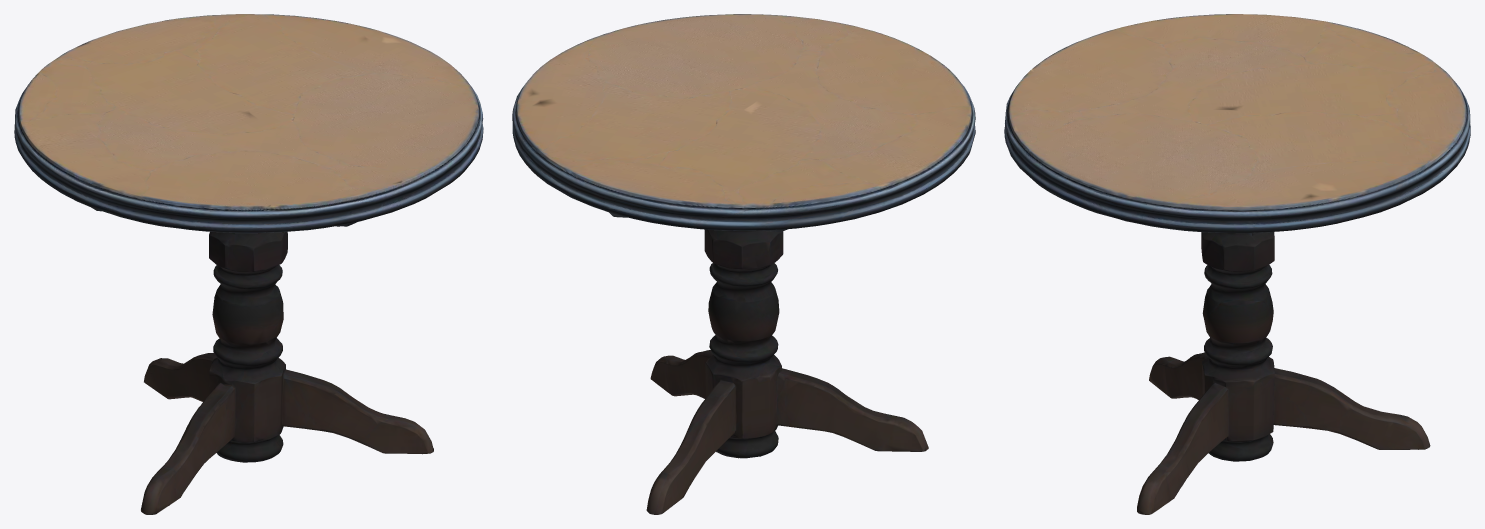
The model's file is model-14-round-table.glb.
The picture shows the model from 3 angles, left to right: view 1: azimuth 30°, elevation 25°; view 2: azimuth 150°, elevation 25°; view 3: azimuth 270°, elevation 25°; orthographic projection.
Visible parts, largest first — view 1: node_0; view 2: node_0; view 3: node_0.
Part boxes in pixels (x1,y1,x2,y2): node_0: [14, 14, 483, 514]; node_0: [512, 14, 975, 514]; node_0: [1004, 14, 1470, 514].
Size of the model in its own units: 0.9419 by 0.7592 by 0.9415.
Materials: 1 (1 with a texture image).
